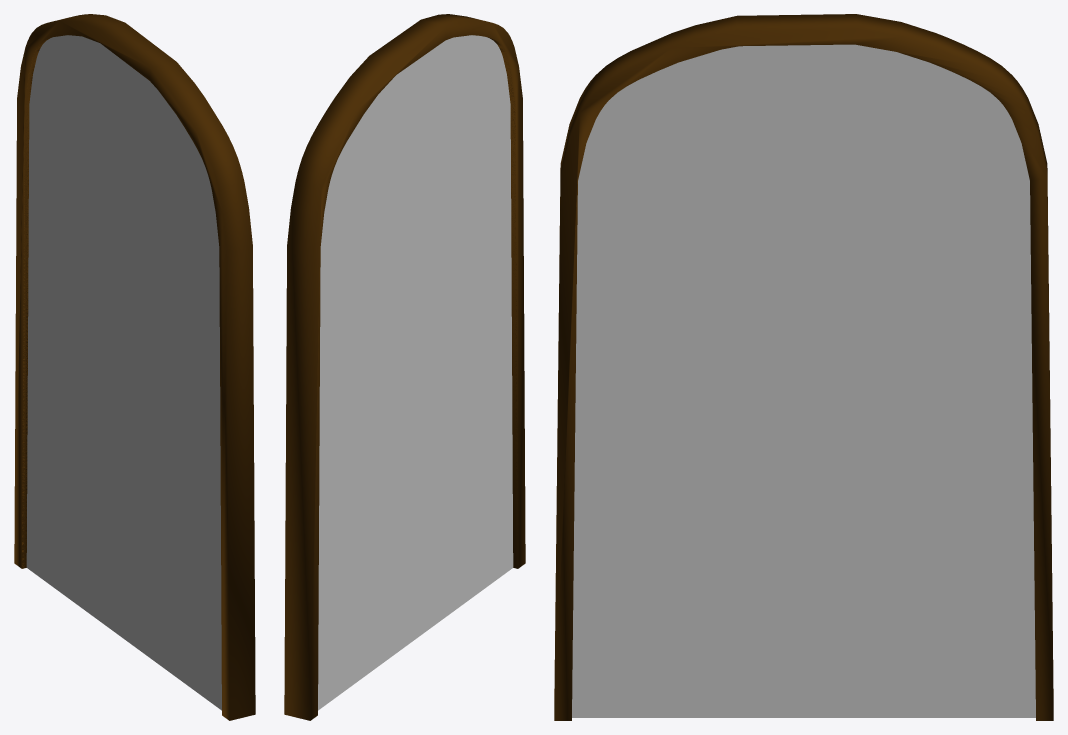
The model's file is Door.fbx.
3 views of the same model, side by side, from view 1: azimuth 30°, elevation 25°; view 2: azimuth 150°, elevation 25°; view 3: azimuth 270°, elevation 25° (orthographic). The views are drawn at different scales.
Parts seen in each view (by area): view 1: Door; view 2: Door; view 3: Door.
Part boxes in pixels (bbox=[...]): Door: bbox=[14, 14, 255, 720]; Door: bbox=[284, 14, 525, 720]; Door: bbox=[554, 14, 1053, 720].
Size of the model in its own units: 16.56 by 363 by 237.
